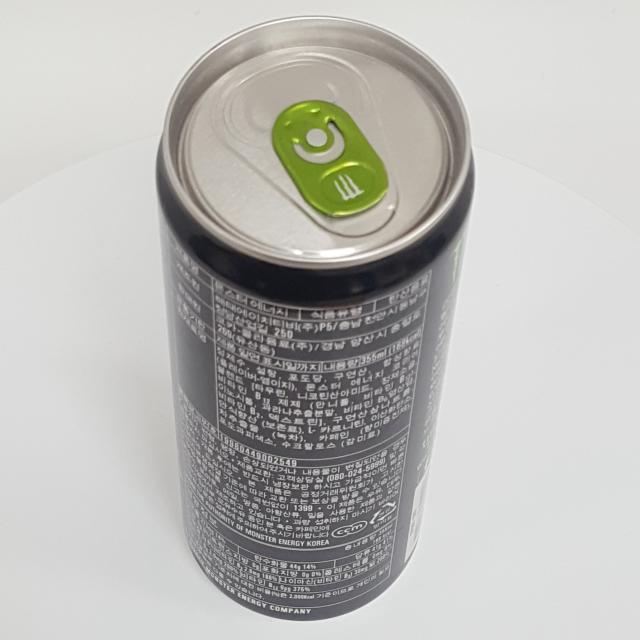--------355ML: (155, 15, 475, 622)
